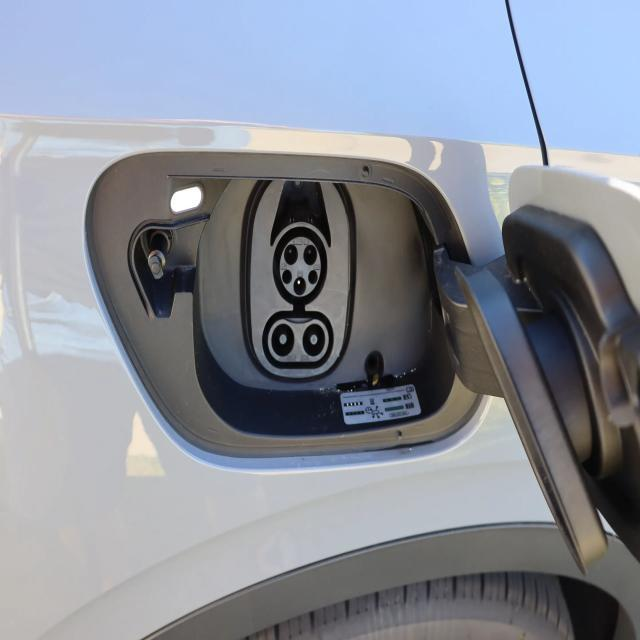CCS1: (247, 216, 353, 389)
